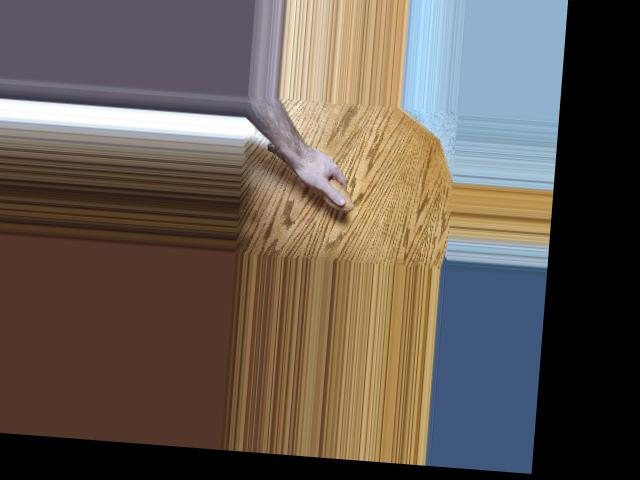sweet_potato: (260, 140, 357, 212)
